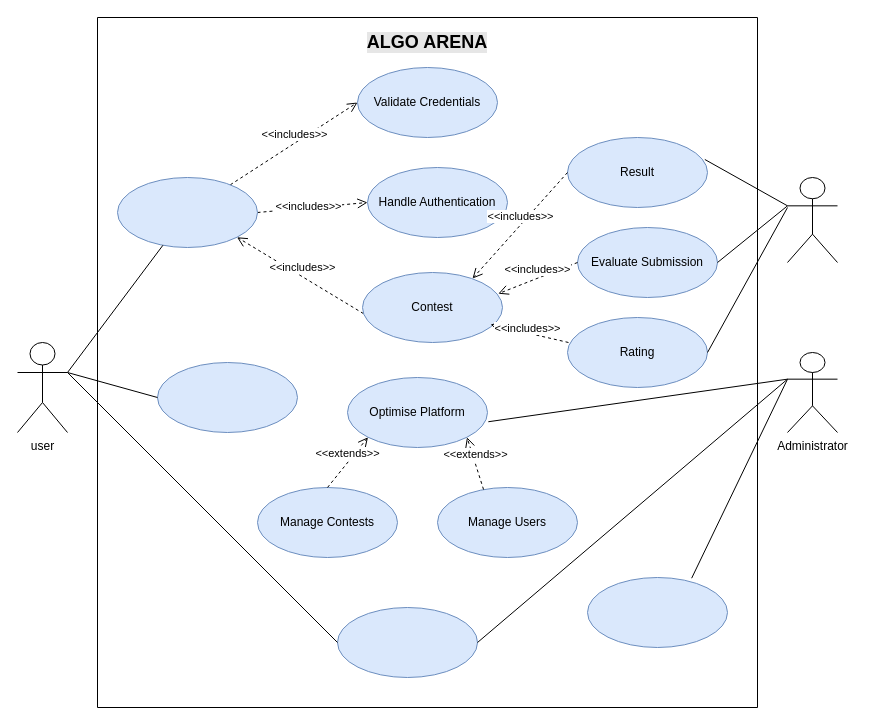
Image size: 877x726. Some labels were removed from this diagram. The centre of each missing label's shape, as x and y in pixels:
Add Problems: [657,612]
Code collaboration: [407,642]
Evaluator System: [812,219]
Forum Discussions: [227,397]
Login: [187,212]
